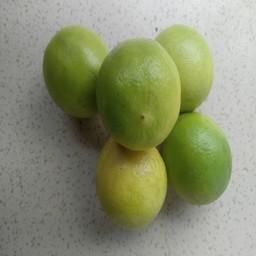Good_lime: (96, 40, 182, 148), (92, 141, 169, 232), (40, 21, 106, 119), (166, 112, 233, 207), (157, 22, 216, 112)
